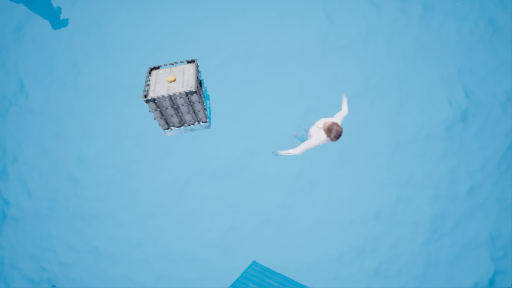person: (272, 99, 353, 163)
